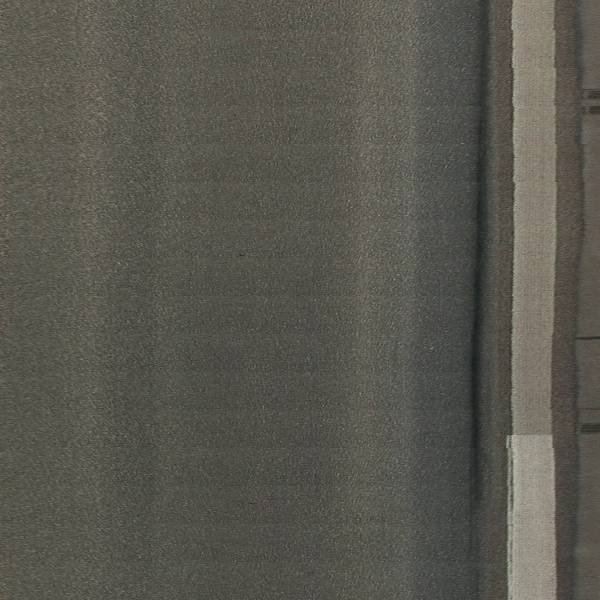road_damage: (465, 173, 496, 530)
